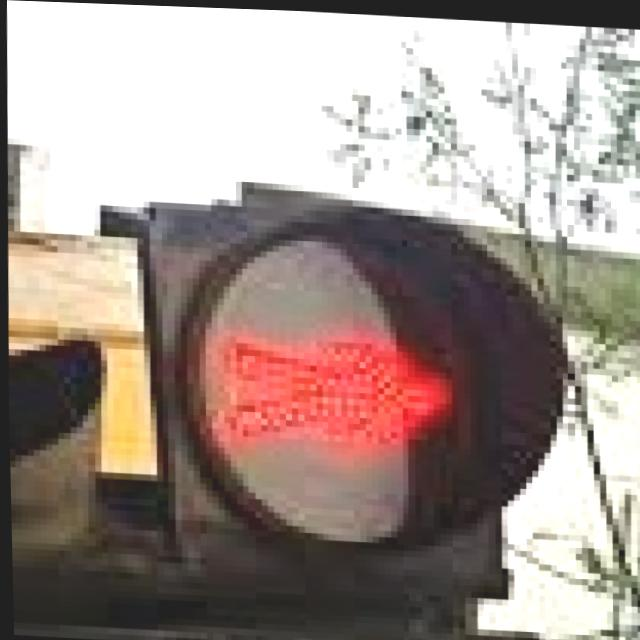red_light: (212, 278, 482, 482)
